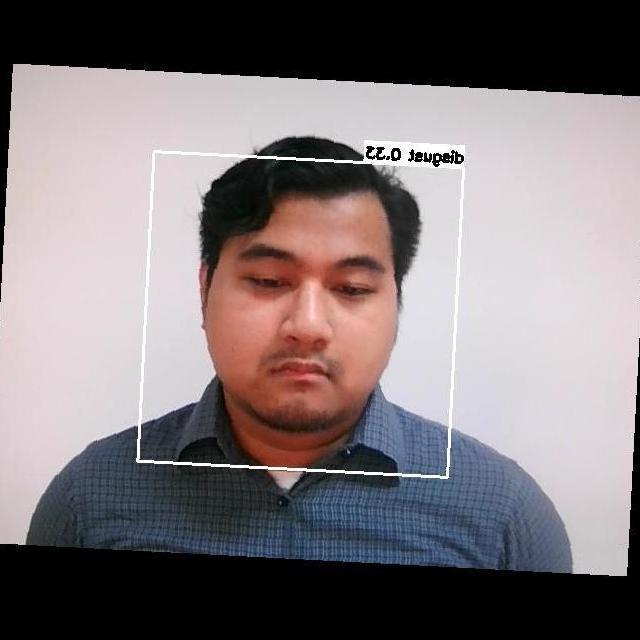Sad: (215, 221, 389, 426)
